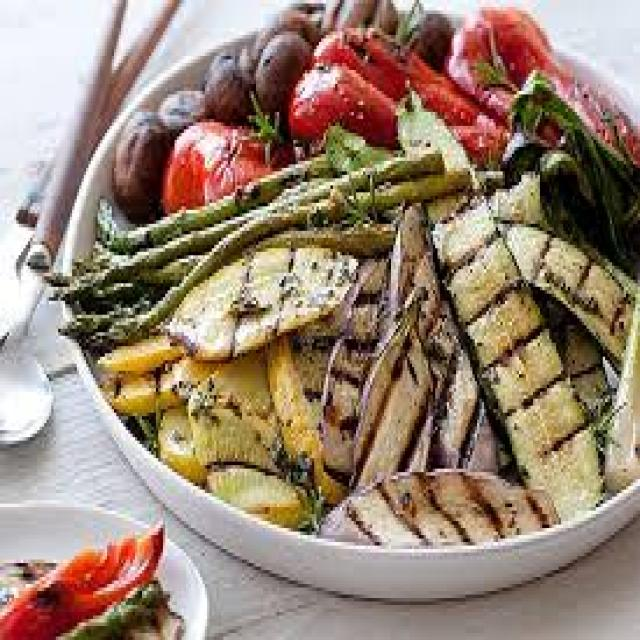organic waste: (42, 0, 638, 535), (394, 91, 600, 518), (56, 143, 444, 329), (44, 143, 447, 301), (440, 4, 638, 158), (391, 202, 500, 476), (93, 119, 358, 231), (312, 28, 505, 154), (163, 238, 351, 360), (493, 217, 631, 357), (0, 521, 163, 637), (312, 465, 551, 542), (349, 280, 440, 476), (507, 73, 638, 196), (324, 258, 386, 482), (270, 339, 342, 497), (161, 115, 286, 203), (184, 364, 281, 472), (540, 294, 612, 434), (284, 60, 393, 144), (200, 455, 310, 528), (577, 147, 638, 276), (56, 577, 181, 637), (600, 294, 638, 490), (111, 105, 168, 220), (501, 126, 594, 189), (252, 28, 310, 112), (149, 406, 209, 479), (93, 329, 186, 374), (316, 115, 394, 168), (102, 370, 184, 420), (200, 49, 251, 115), (398, 4, 449, 66), (318, 0, 396, 35), (156, 84, 205, 129), (275, 0, 321, 42), (133, 252, 207, 276), (470, 52, 510, 84), (247, 98, 279, 136), (232, 38, 254, 88)
